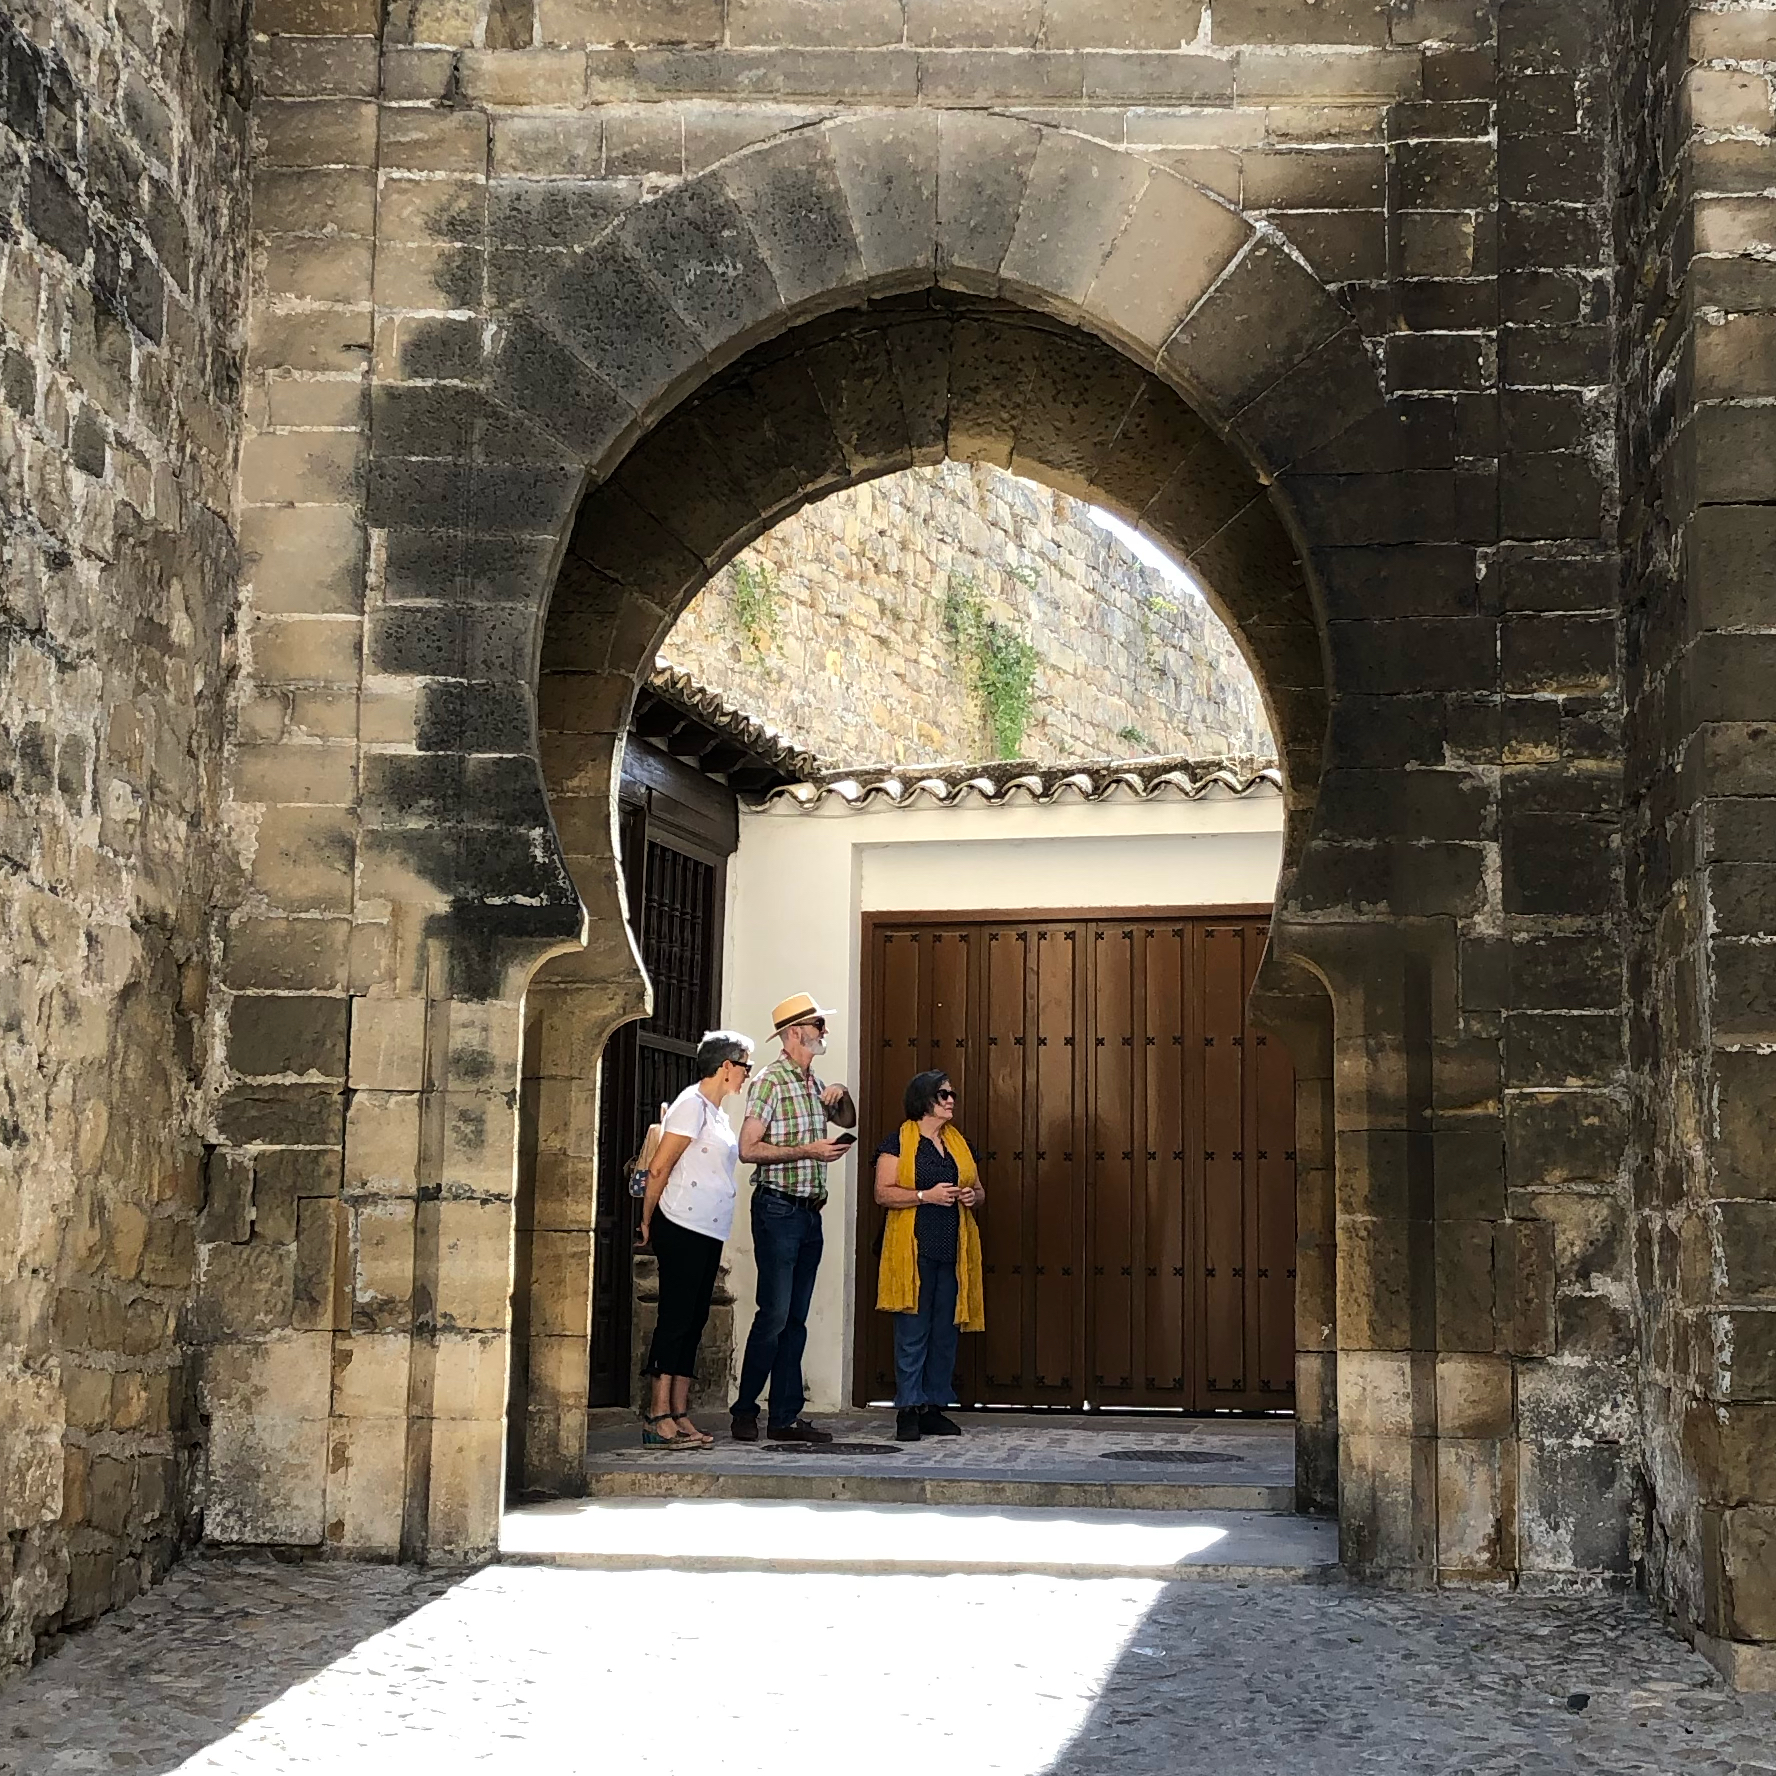arco-herradura: (485, 249, 1391, 1007)
